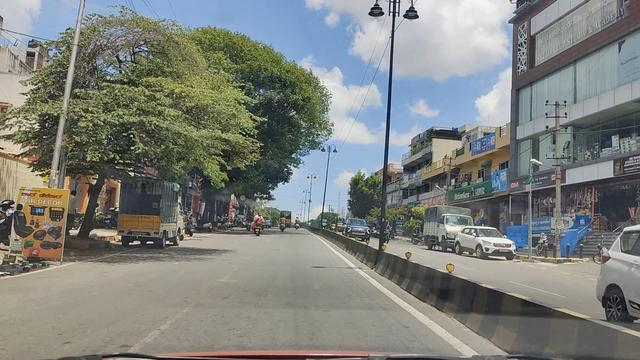HMV: (120, 173, 182, 248)
